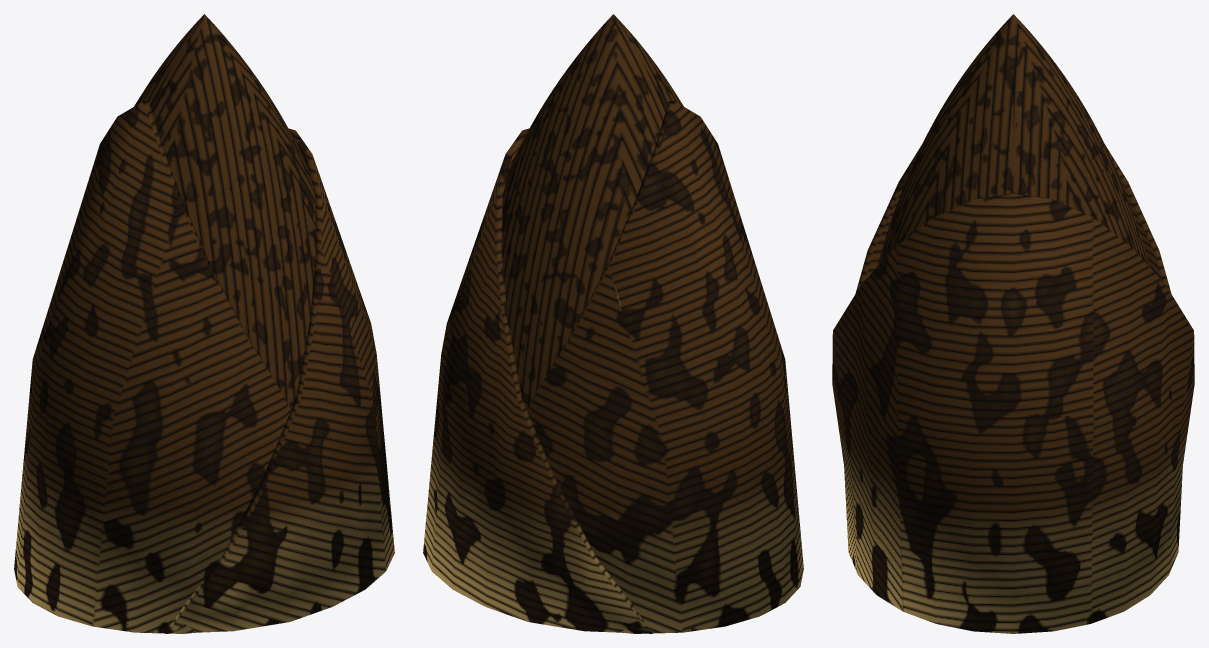
The model's file is takenoko.fbx.
3 renders of one model, left to right at view 1: azimuth 30°, elevation 25°; view 2: azimuth 150°, elevation 25°; view 3: azimuth 270°, elevation 25°, orthographic.
Visible parts, largest first — view 1: 球.001; view 2: 球.001; view 3: 球.001.
Part boxes in pixels (x1=…): 球.001: x1=14, y1=14, x2=394, y2=633; 球.001: x1=423, y1=14, x2=803, y2=633; 球.001: x1=832, y1=14, x2=1194, y2=633.
Bounding box in the file's own units: 62.33 × 94.8 × 57.87.
1 material, 1 textured.
